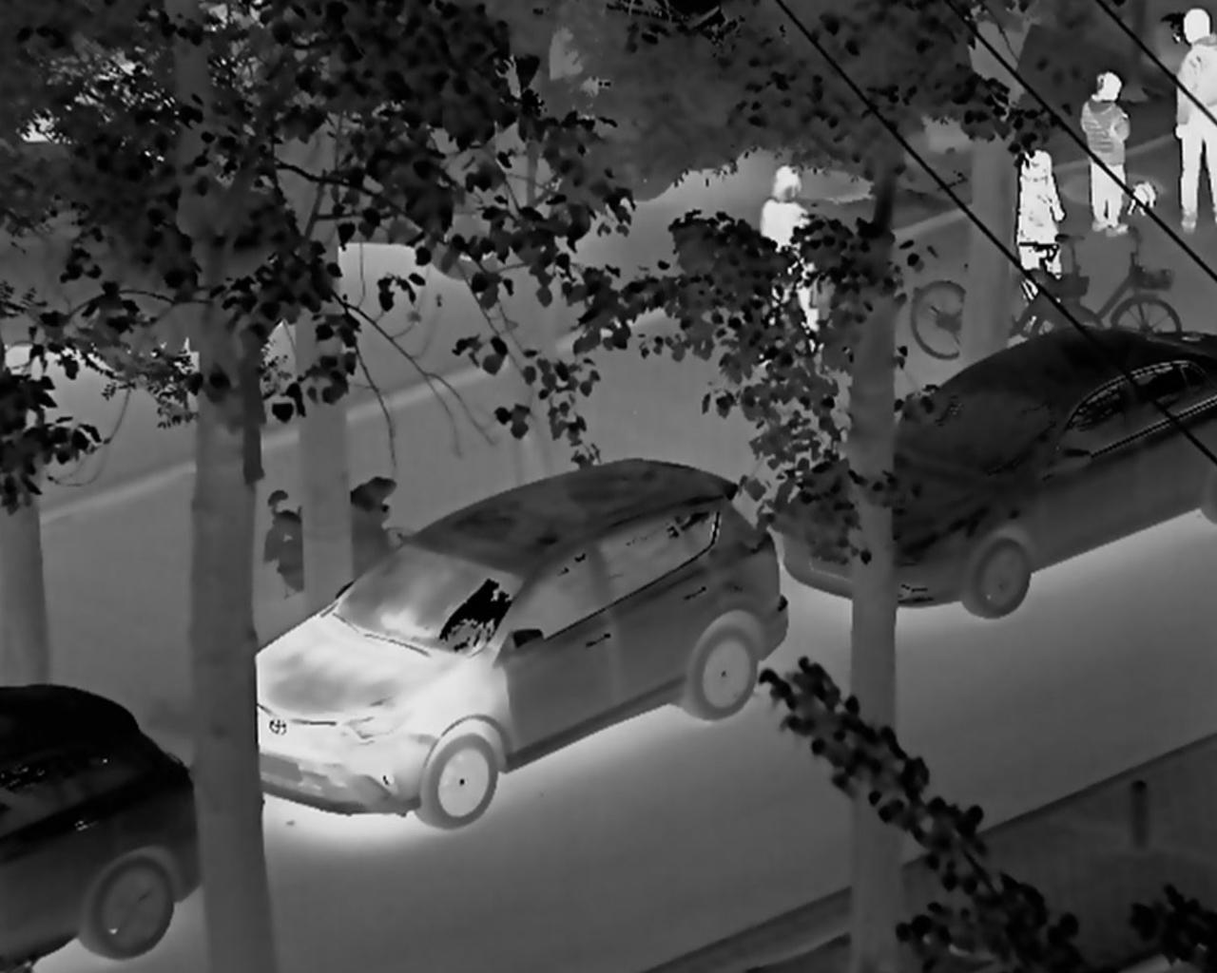person: (751, 162, 830, 347), (1074, 70, 1141, 237), (1170, 5, 1217, 242), (1014, 144, 1065, 295)
